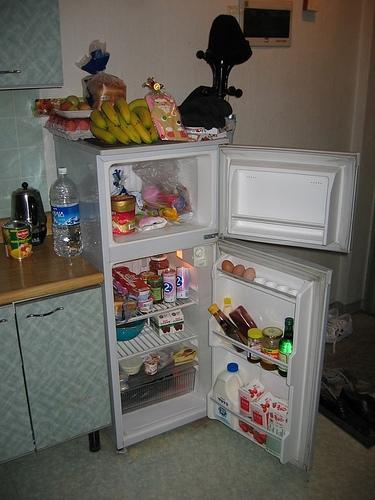banana: (116, 111, 142, 144), (104, 118, 133, 146), (130, 111, 154, 144), (90, 122, 116, 144), (132, 106, 153, 131), (101, 102, 121, 128), (114, 97, 130, 125), (90, 110, 108, 130), (128, 98, 150, 112), (148, 119, 158, 143)
